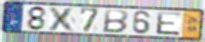6: (132, 10, 153, 35)
7: (79, 6, 101, 33)
8: (26, 5, 48, 32)
B: (101, 8, 130, 34)
E: (156, 11, 184, 37)
X: (46, 6, 77, 33)
